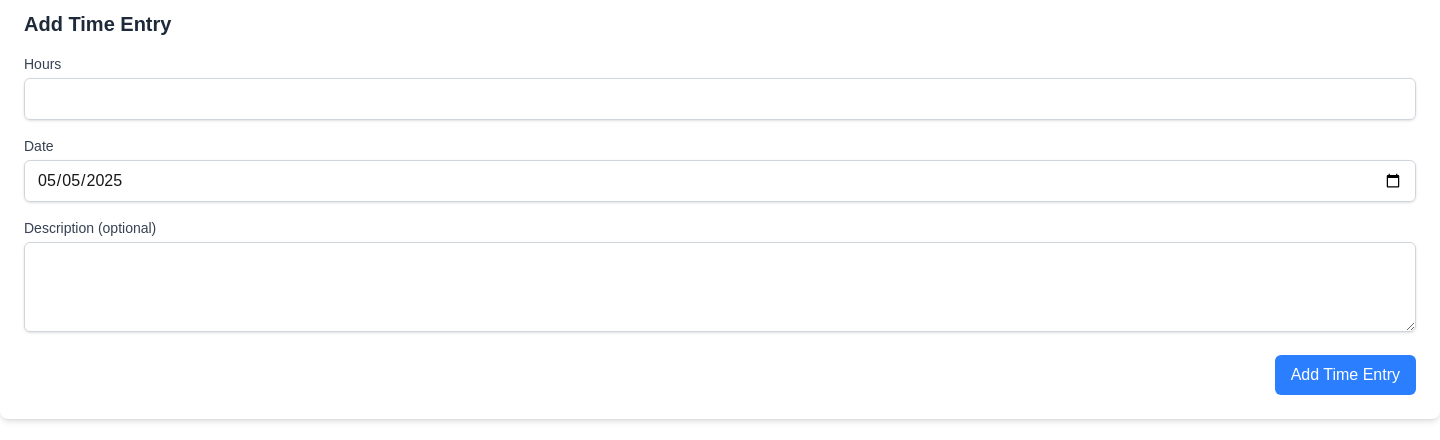
it: TimeEntryForm › resets form after successful submission
Type "5" into the number field labelled "Hours".
click(720, 99); type("5")  # box [24,78,1416,120]
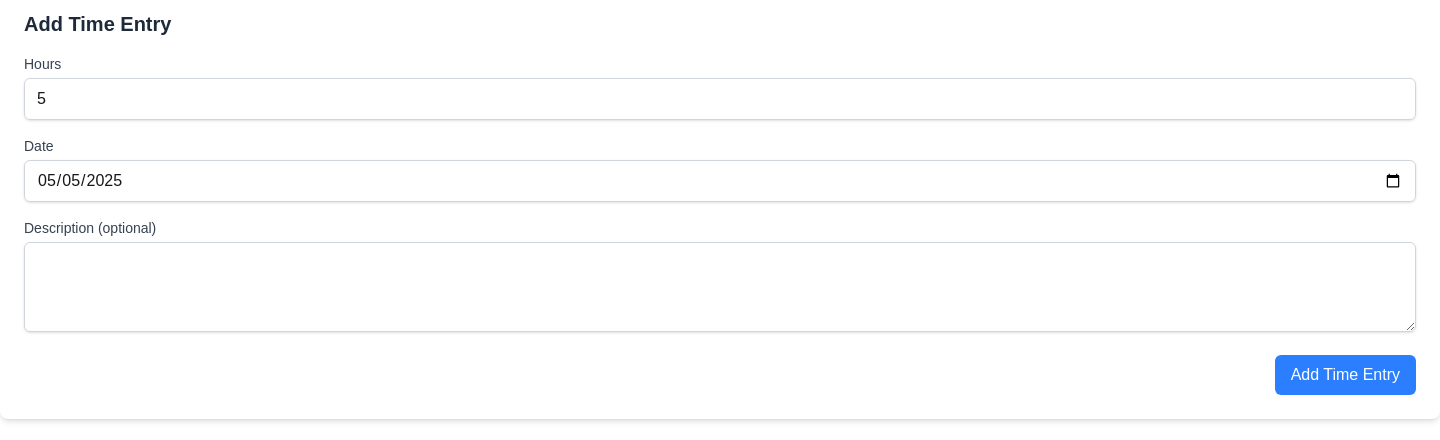
Type "2025-05-03" into the date field labelled "Date".
click(720, 181); type("2025-05-03")  # box [24,160,1416,202]
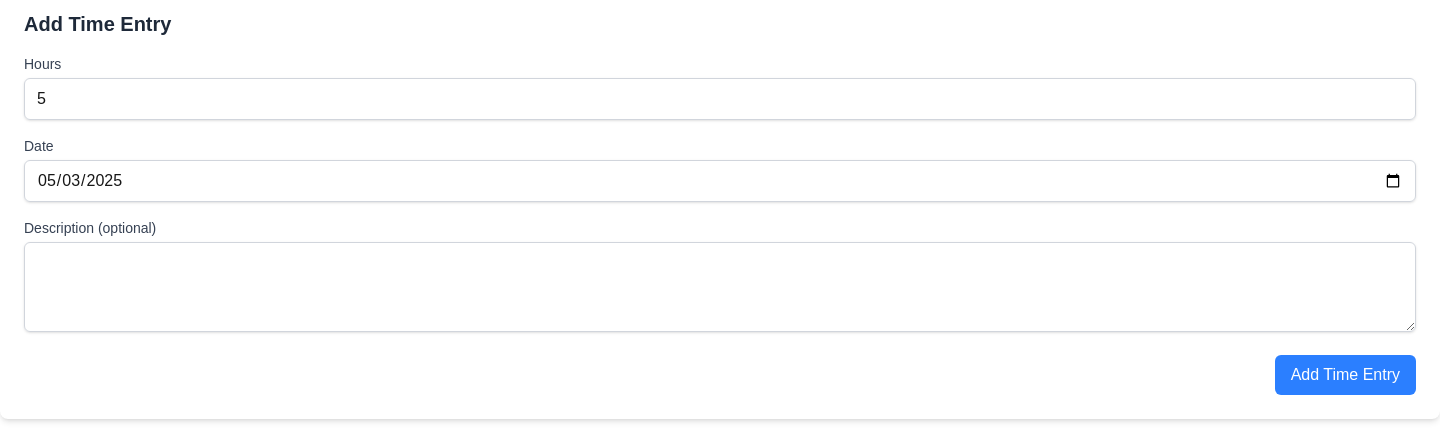
Type "Test Description" into the text box labelled "Description (optional)".
click(720, 287); type("Test Description")  # box [24,242,1416,332]
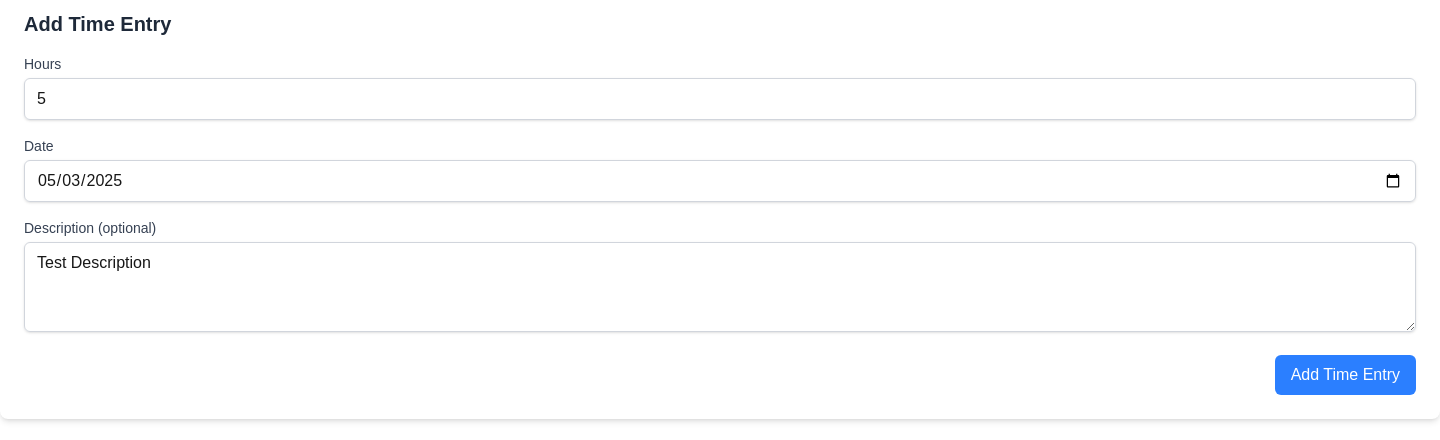
Submit the form with test id "time-entry-form"
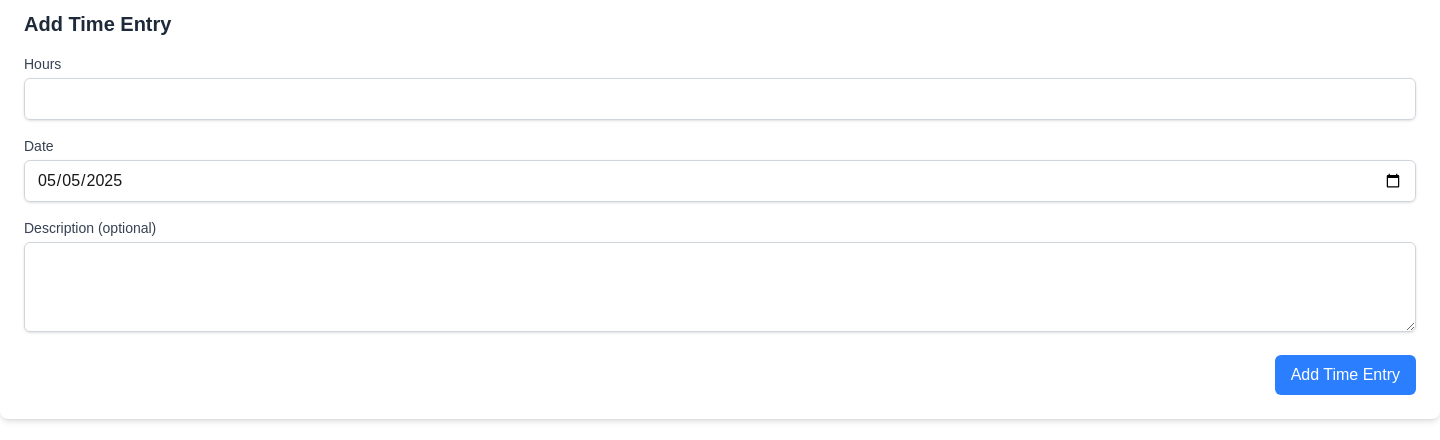
Expected: the number field labelled "Hours" is not empty, [24,78,1416,120]
Expected: the text box labelled "Description (optional)" is empty, [24,242,1416,332]
